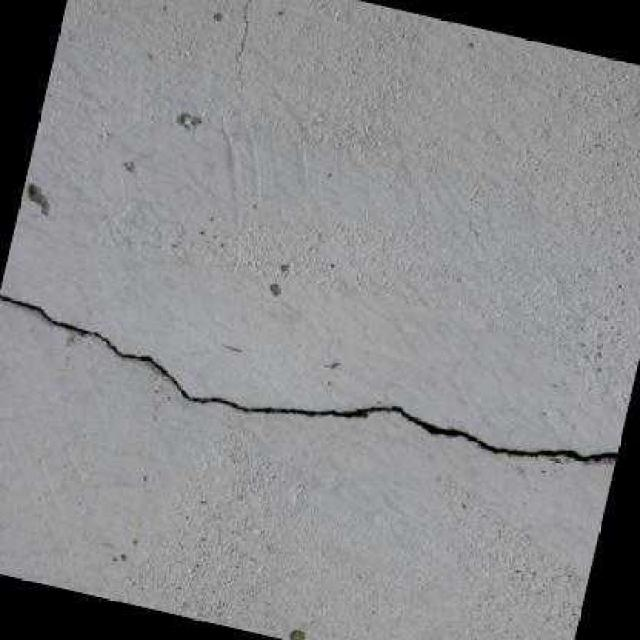D00: (0, 295, 617, 461)
